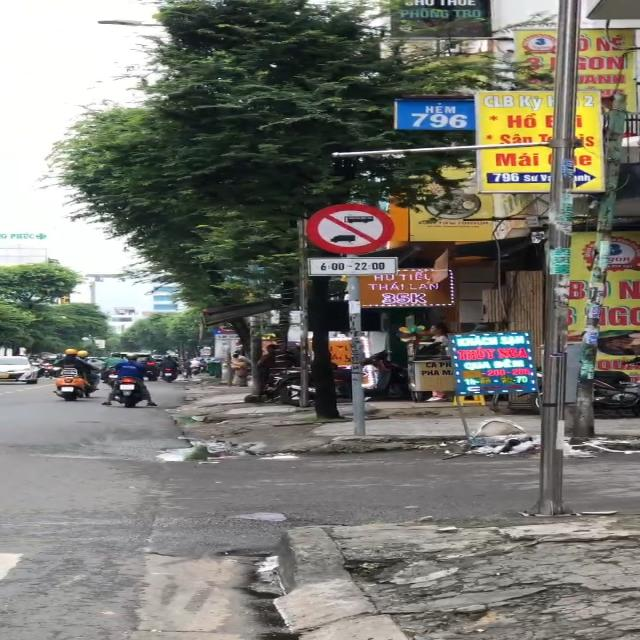Bien bao cam xe oto khach va xe oto tai: (299, 199, 401, 256)
